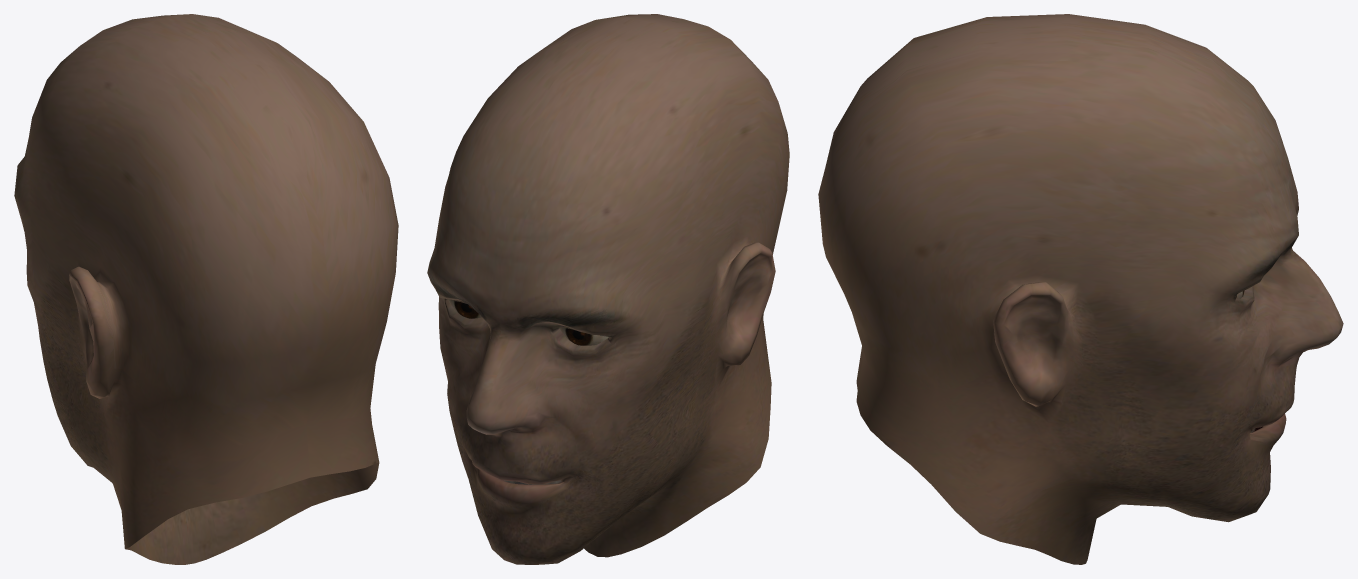
Rendered from G3_Head_Slave_Myrtana_Animated_03_S19.obj.
3 renders of one model, left to right at view 1: azimuth 30°, elevation 25°; view 2: azimuth 150°, elevation 25°; view 3: azimuth 270°, elevation 25°, orthographic. The views are drawn at different scales.
Parts seen in each view (by area): view 1: G3_Animation_Head_Slave_Main_03; view 2: G3_Animation_Head_Slave_Main_03; view 3: G3_Animation_Head_Slave_Main_03.
Part boxes in pixels (x1,y1,x2,y2): G3_Animation_Head_Slave_Main_03: [14, 14, 398, 564]; G3_Animation_Head_Slave_Main_03: [427, 14, 789, 564]; G3_Animation_Head_Slave_Main_03: [818, 14, 1343, 564].
Size of the model in its own units: 0.1406 by 0.2442 by 0.2186.
Materials: 3 (3 with a texture image).
